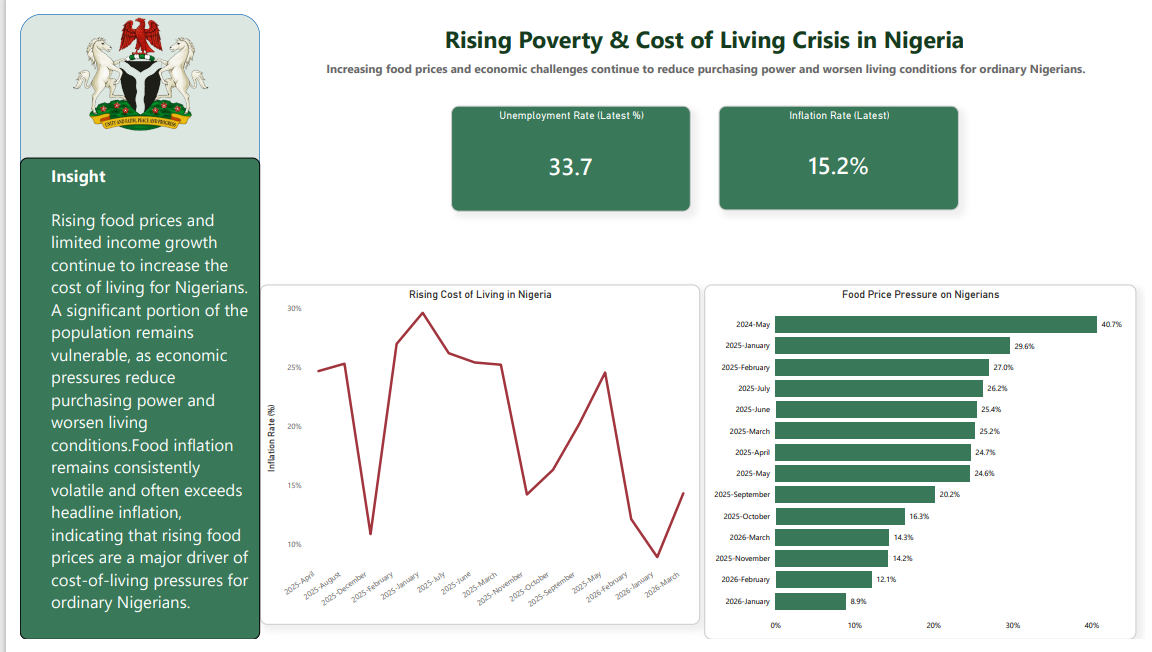

The page's visual inventory and layout, read from the dashboard file:
{"tool":"powerbi","page":{"name":"Poverty & Cost of Living","canvas":[1800,1000],"ordinal":3},"visuals":[{"type":"shape","box":[0,0,383.7,1000.3],"z":0},{"type":"textbox","box":[498.8,10.5,1193,69.8],"z":1000},{"type":"textbox","box":[397.7,69.8,1402.3,66.3],"z":2000},{"type":"lineChart","title":"Rising Cost of Living in Nigeria","fields":{"Y":["Avg(InflationDataTable.food_inflation)"],"Category":["InflationDataTable.YearMonth"]},"box":[383.7,432.6,704.7,544.2],"z":3000},{"type":"clusteredBarChart","title":"Food Price Pressure on Nigerians","fields":{"Category":["InflationDataTable.YearMonth"],"Y":["Avg(InflationDataTable.food_inflation)"]},"box":[1095.3,432.6,690.7,568.6],"z":5000},{"type":"textbox","box":[0,230.2,383.7,770.9],"z":6000},{"type":"cardVisual","title":"Unemployment Rate (Latest %)","fields":{"Data":["Avg(Labour force.Value)"]},"box":[690.2,146.6,382.7,169],"z":7000},{"type":"image","box":[43.6,0,299.9,204.4],"z":8000},{"type":"cardVisual","title":"Inflation Rate (Latest)","fields":{"Data":["Avg(InflationDataTable.headline_inflation)"]},"box":[1117.7,146.6,384.8,166.9],"z":9000}]}

Visuals, with their boxes in screenshot pixels (x1, y1, x2, y2), scaled from the page's 1800x1000 canvas onto the 1152x652 screenshot:
shape: Rect(0, 0, 246, 651)
textbox: Rect(319, 7, 1083, 52)
textbox: Rect(255, 46, 1151, 89)
"Rising Cost of Living in Nigeria" lineChart: Rect(246, 282, 697, 637)
"Food Price Pressure on Nigerians" clusteredBarChart: Rect(701, 282, 1143, 651)
textbox: Rect(0, 150, 246, 651)
"Unemployment Rate (Latest %)" cardVisual: Rect(442, 96, 687, 206)
image: Rect(28, 0, 220, 133)
"Inflation Rate (Latest)" cardVisual: Rect(715, 96, 962, 204)
